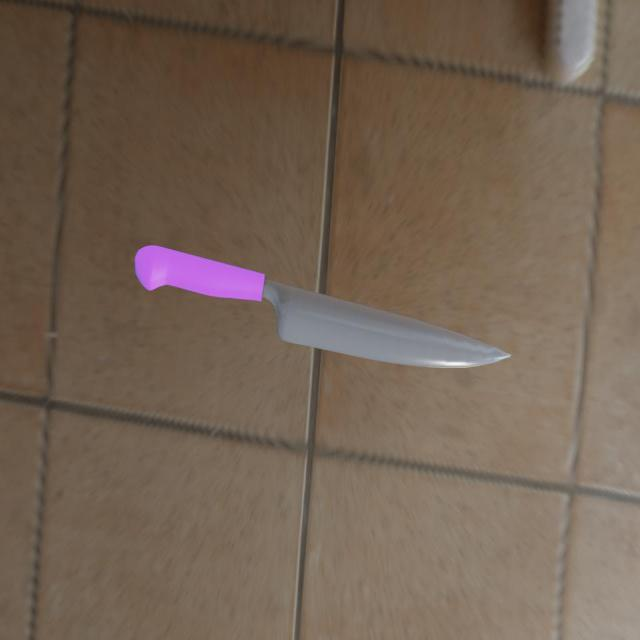knife: (134, 245, 265, 301)
